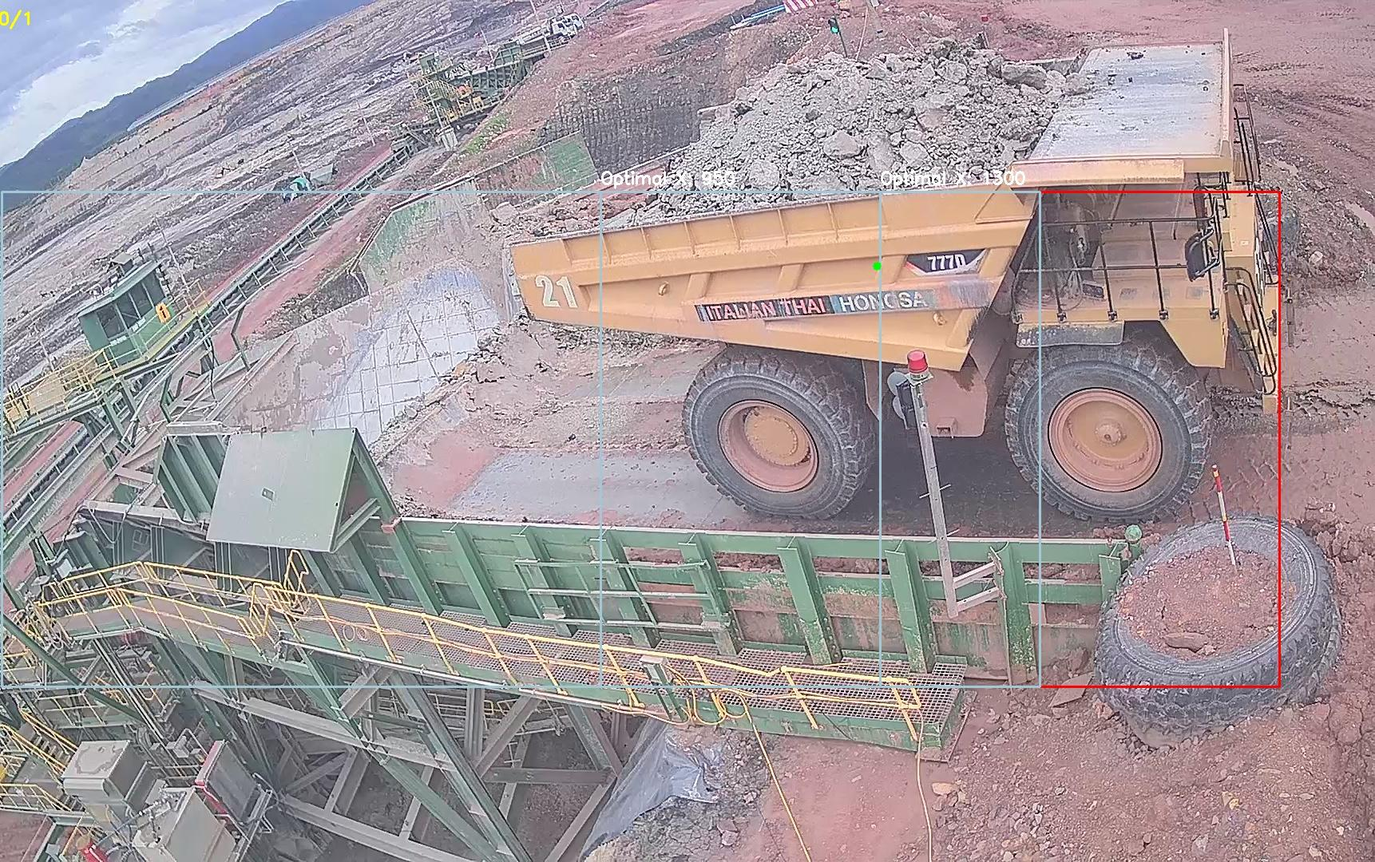company: (680, 285, 948, 325)
full_load: (727, 32, 1022, 212)
mining_truck: (496, 13, 1286, 519)
tail_number: (525, 259, 582, 317)
truck_size: (899, 244, 992, 280)
